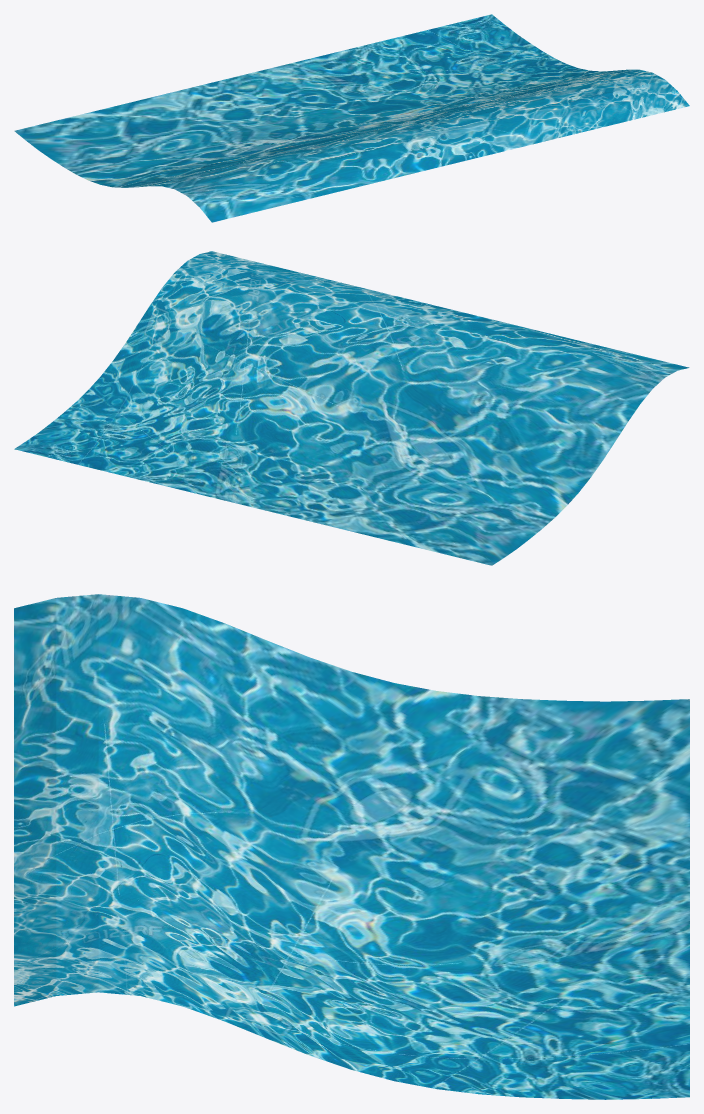
File: Olas9.obj
3 renders of one model, top to bottom at view 1: azimuth 30°, elevation 25°; view 2: azimuth 150°, elevation 25°; view 3: azimuth 270°, elevation 25°, orthographic. The views are drawn at different scales.
Parts seen in each view (by area): view 1: Plane; view 2: Plane; view 3: Plane.
Boxes of the visible parts, x1,y1,x2,y2 form: Plane: (14,14,689,222); Plane: (14,251,689,565); Plane: (14,594,689,1099).
Bounding box in the file's own units: 13.82 × 1.74 × 9.91.
